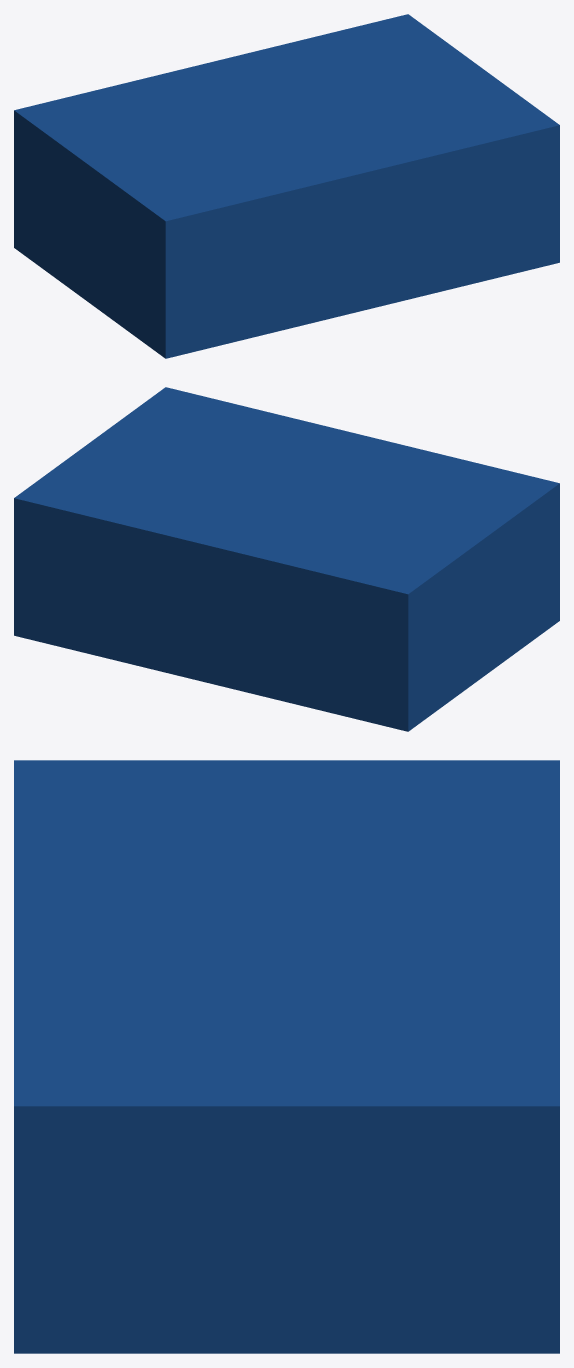
File: john_doe_body.dae
The picture shows the model from 3 angles, top to bottom: view 1: azimuth 30°, elevation 25°; view 2: azimuth 150°, elevation 25°; view 3: azimuth 270°, elevation 25°; orthographic projection. The views are drawn at different scales.
Parts seen in each view (by area): view 1: PlaneCOL; view 2: PlaneCOL; view 3: PlaneCOL.
Boxes of the visible parts, bbox=[...] form: PlaneCOL: bbox=[14, 14, 559, 358]; PlaneCOL: bbox=[14, 387, 559, 731]; PlaneCOL: bbox=[14, 760, 559, 1353].
Bounding box in the file's own units: 1.2 × 0.8 × 0.4.
